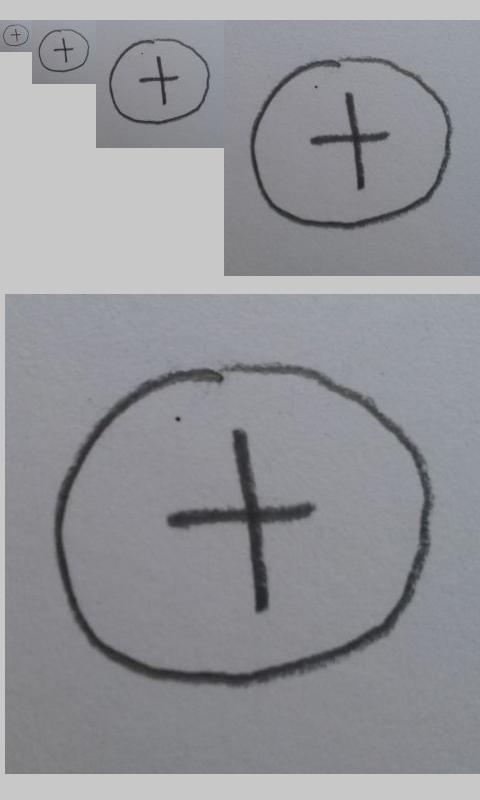button: (52, 361, 434, 689), (249, 56, 453, 230), (108, 38, 211, 125), (38, 28, 91, 73), (2, 24, 30, 47)
